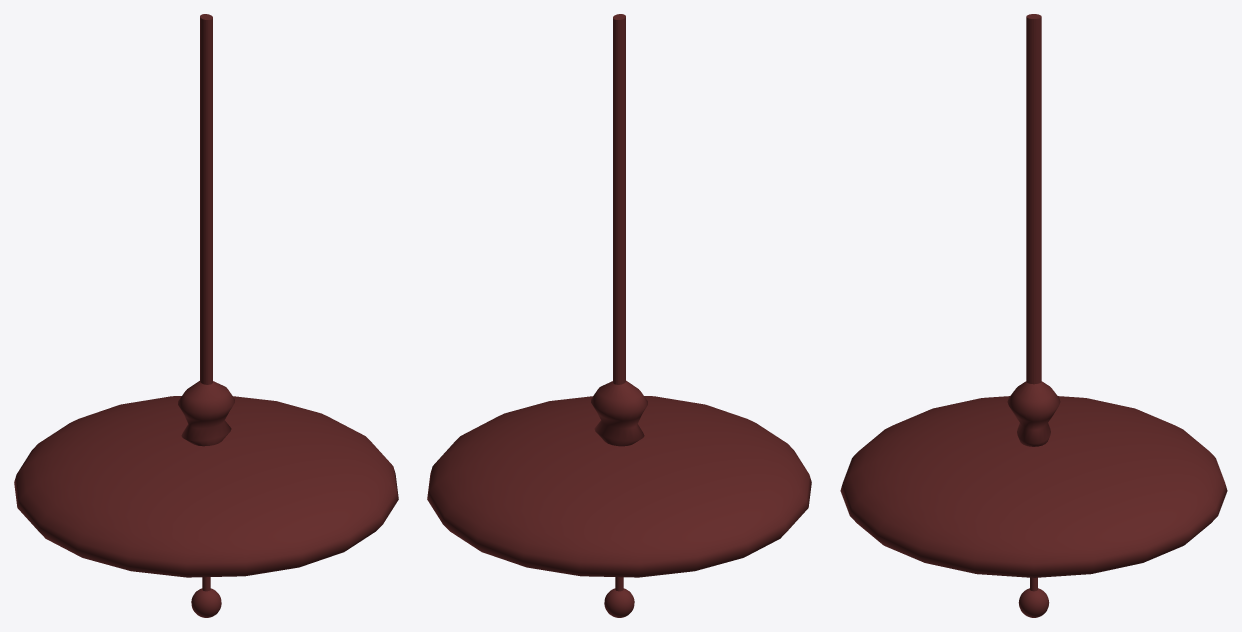
Rendered from Lamp.obj.
3 renders of one model, left to right at view 1: azimuth 30°, elevation 25°; view 2: azimuth 150°, elevation 25°; view 3: azimuth 270°, elevation 25°, orthographic.
Visible parts, largest first — view 1: pSphere2 group1, group1 pCylinder3, group1 pSphere3; view 2: pSphere2 group1, group1 pCylinder3, group1 pSphere3; view 3: pSphere2 group1, group1 pCylinder3, group1 pSphere3.
Part boxes in pixels (x1,y1,x2,y2): pSphere2 group1: (14, 396, 398, 577); group1 pCylinder3: (178, 14, 234, 446); group1 pSphere3: (191, 588, 221, 617); pSphere2 group1: (427, 396, 811, 577); group1 pCylinder3: (591, 14, 647, 446); group1 pSphere3: (604, 588, 634, 617); pSphere2 group1: (840, 396, 1227, 577); group1 pCylinder3: (1007, 14, 1060, 446); group1 pSphere3: (1018, 588, 1049, 617).
Size of the model in its own units: 2 by 3.42 by 2.
Materials: 2 (2 with a texture image).
